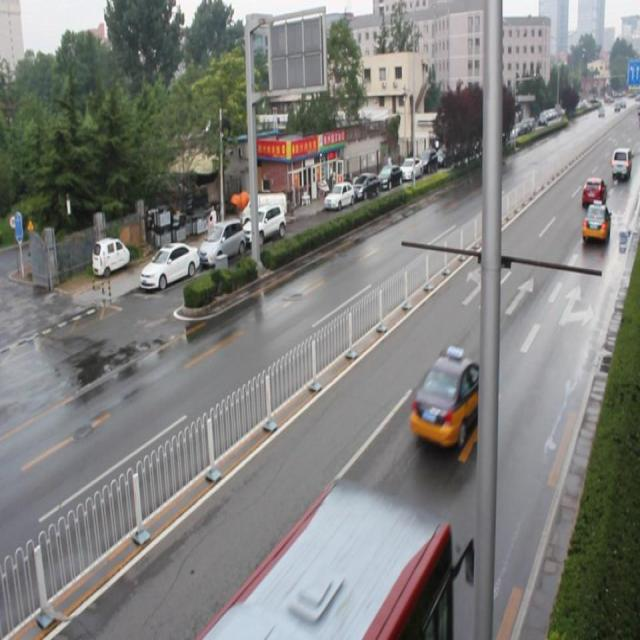car: (408, 347, 492, 447), (580, 200, 607, 243), (581, 173, 606, 210)
van: (195, 478, 470, 628)
